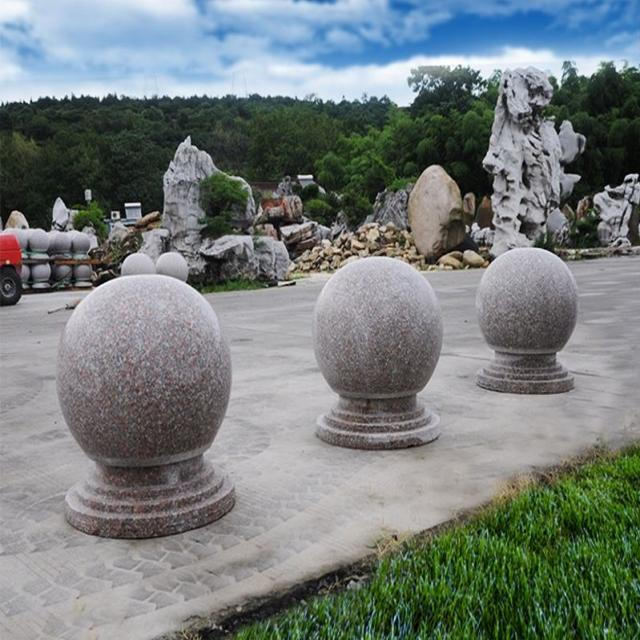spherical_roadblock: (53, 273, 238, 535), (310, 256, 448, 446), (470, 245, 582, 396), (155, 252, 189, 281), (119, 251, 157, 276), (28, 228, 48, 258), (29, 261, 51, 288), (50, 231, 71, 258), (70, 230, 90, 258), (52, 263, 73, 288), (72, 263, 93, 287)
